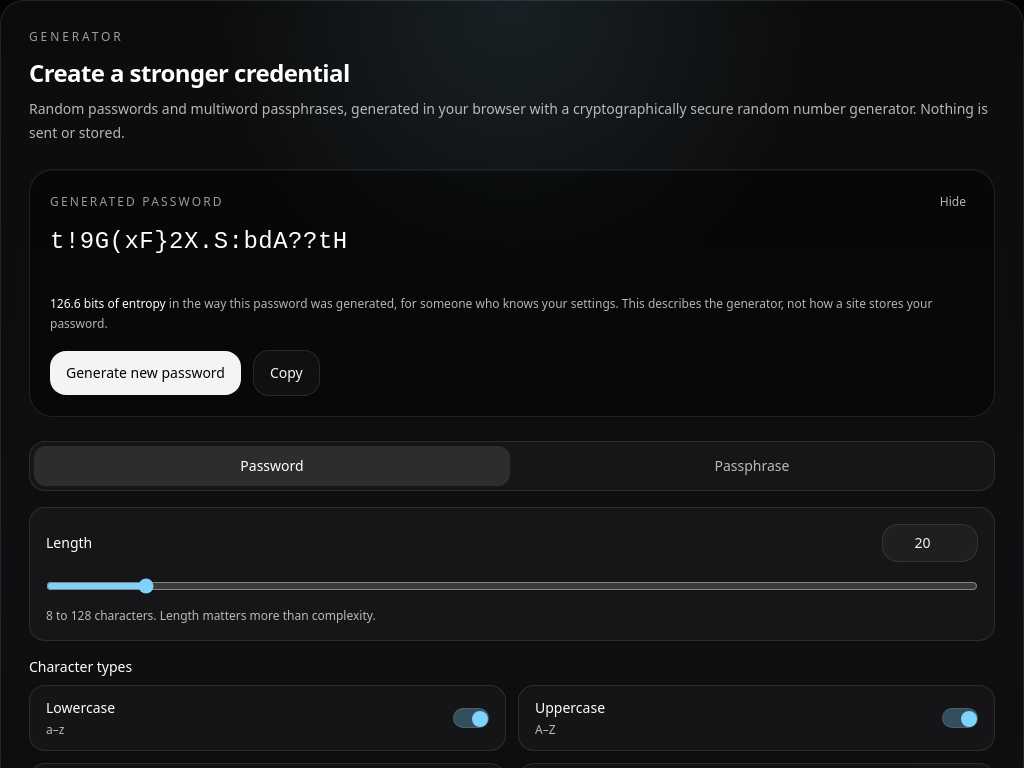
it: PasswordGenerator: configuration › recovers as soon as the length is valid again
The width and height of the screenshot is (1024, 768).
Replace the text in the number field labelled "Length" with "5" at (930, 543), box left=882, top=524, right=978, bottom=562
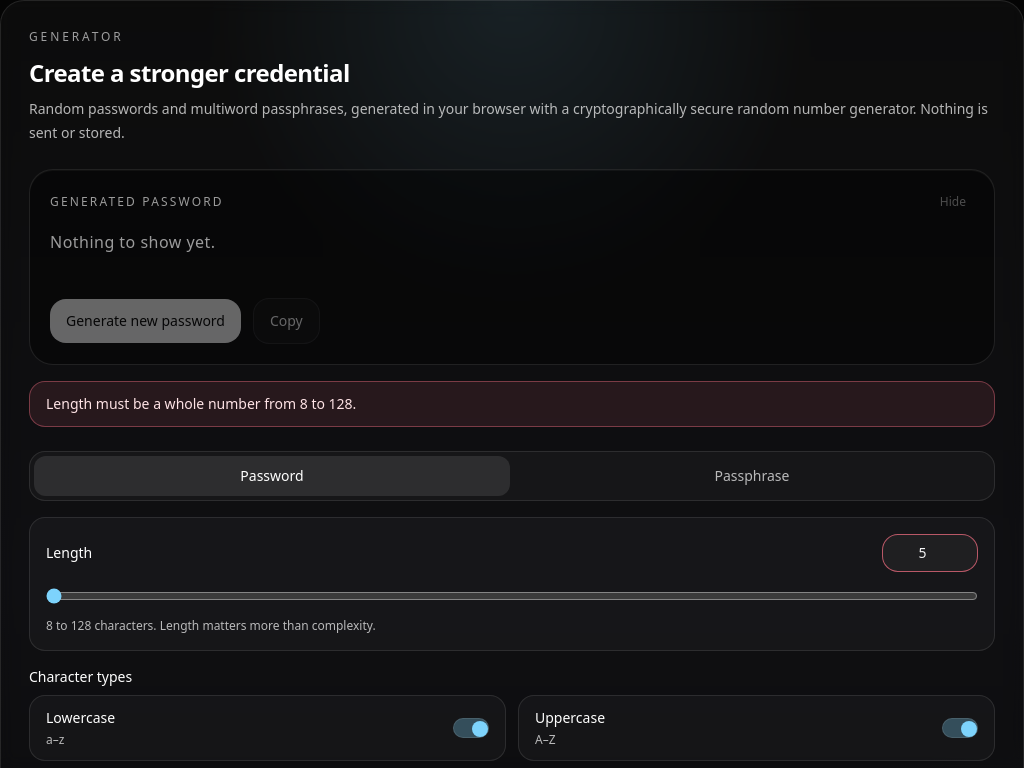
Replace the text in the number field labelled "Length" with "16" at (930, 553), box left=882, top=534, right=978, bottom=572
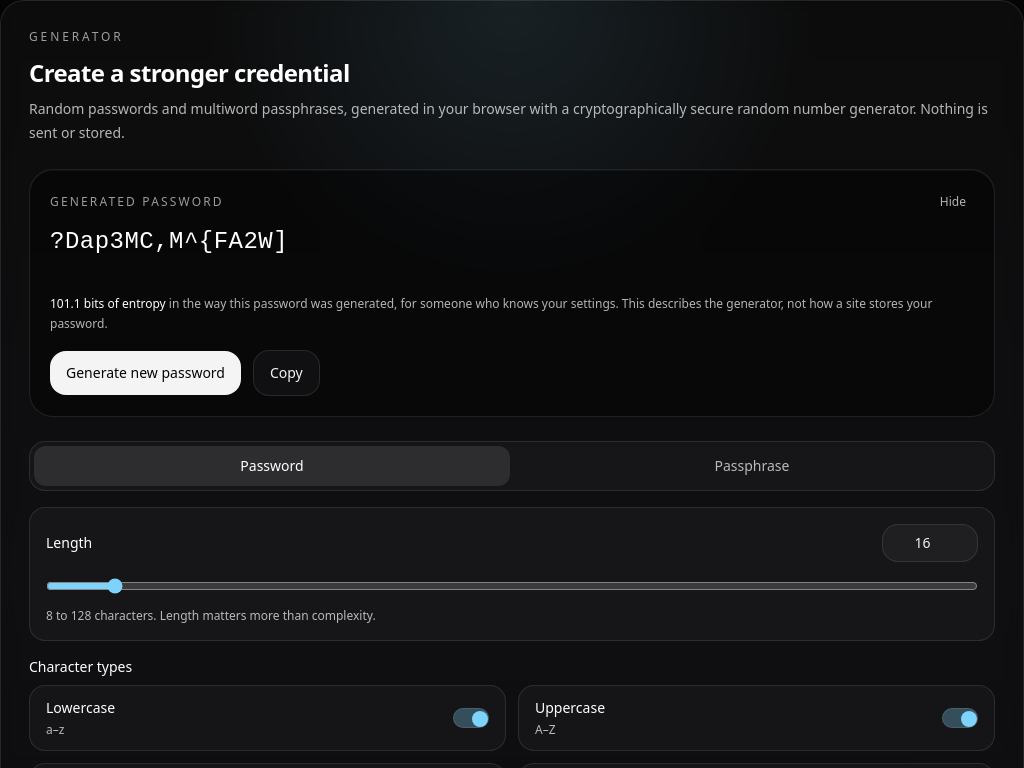
Check: the message "Length must be a whole number from 8 to 128." is gone
